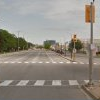crosswalk: (0, 78, 80, 87), (0, 61, 83, 64)
